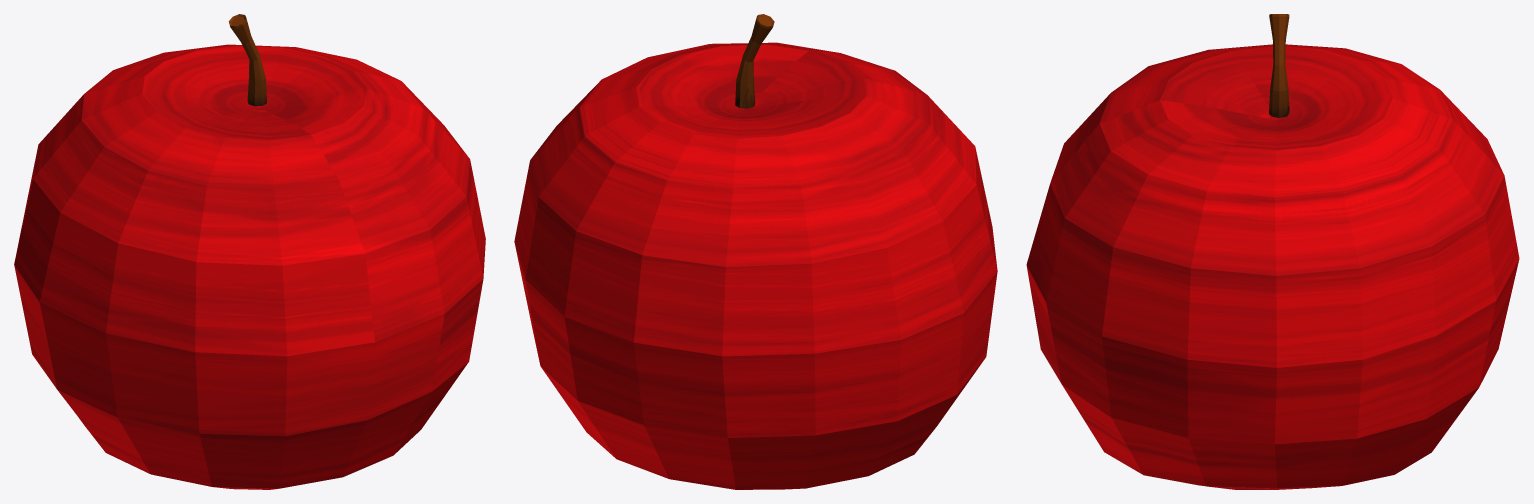
Rendered from Pomme.fbx.
The picture shows the model from 3 angles, left to right: view 1: azimuth 30°, elevation 25°; view 2: azimuth 150°, elevation 25°; view 3: azimuth 270°, elevation 25°; orthographic projection. The views are drawn at different scales.
Parts seen in each view (by area): view 1: Pomme; view 2: Pomme; view 3: Pomme.
Boxes of the visible parts, <box> form: Pomme: <box>14,14,485,489</box>; Pomme: <box>514,14,997,489</box>; Pomme: <box>1026,14,1519,489</box>.
Size of the model in its own units: 37.91 by 38.31 by 37.77.
